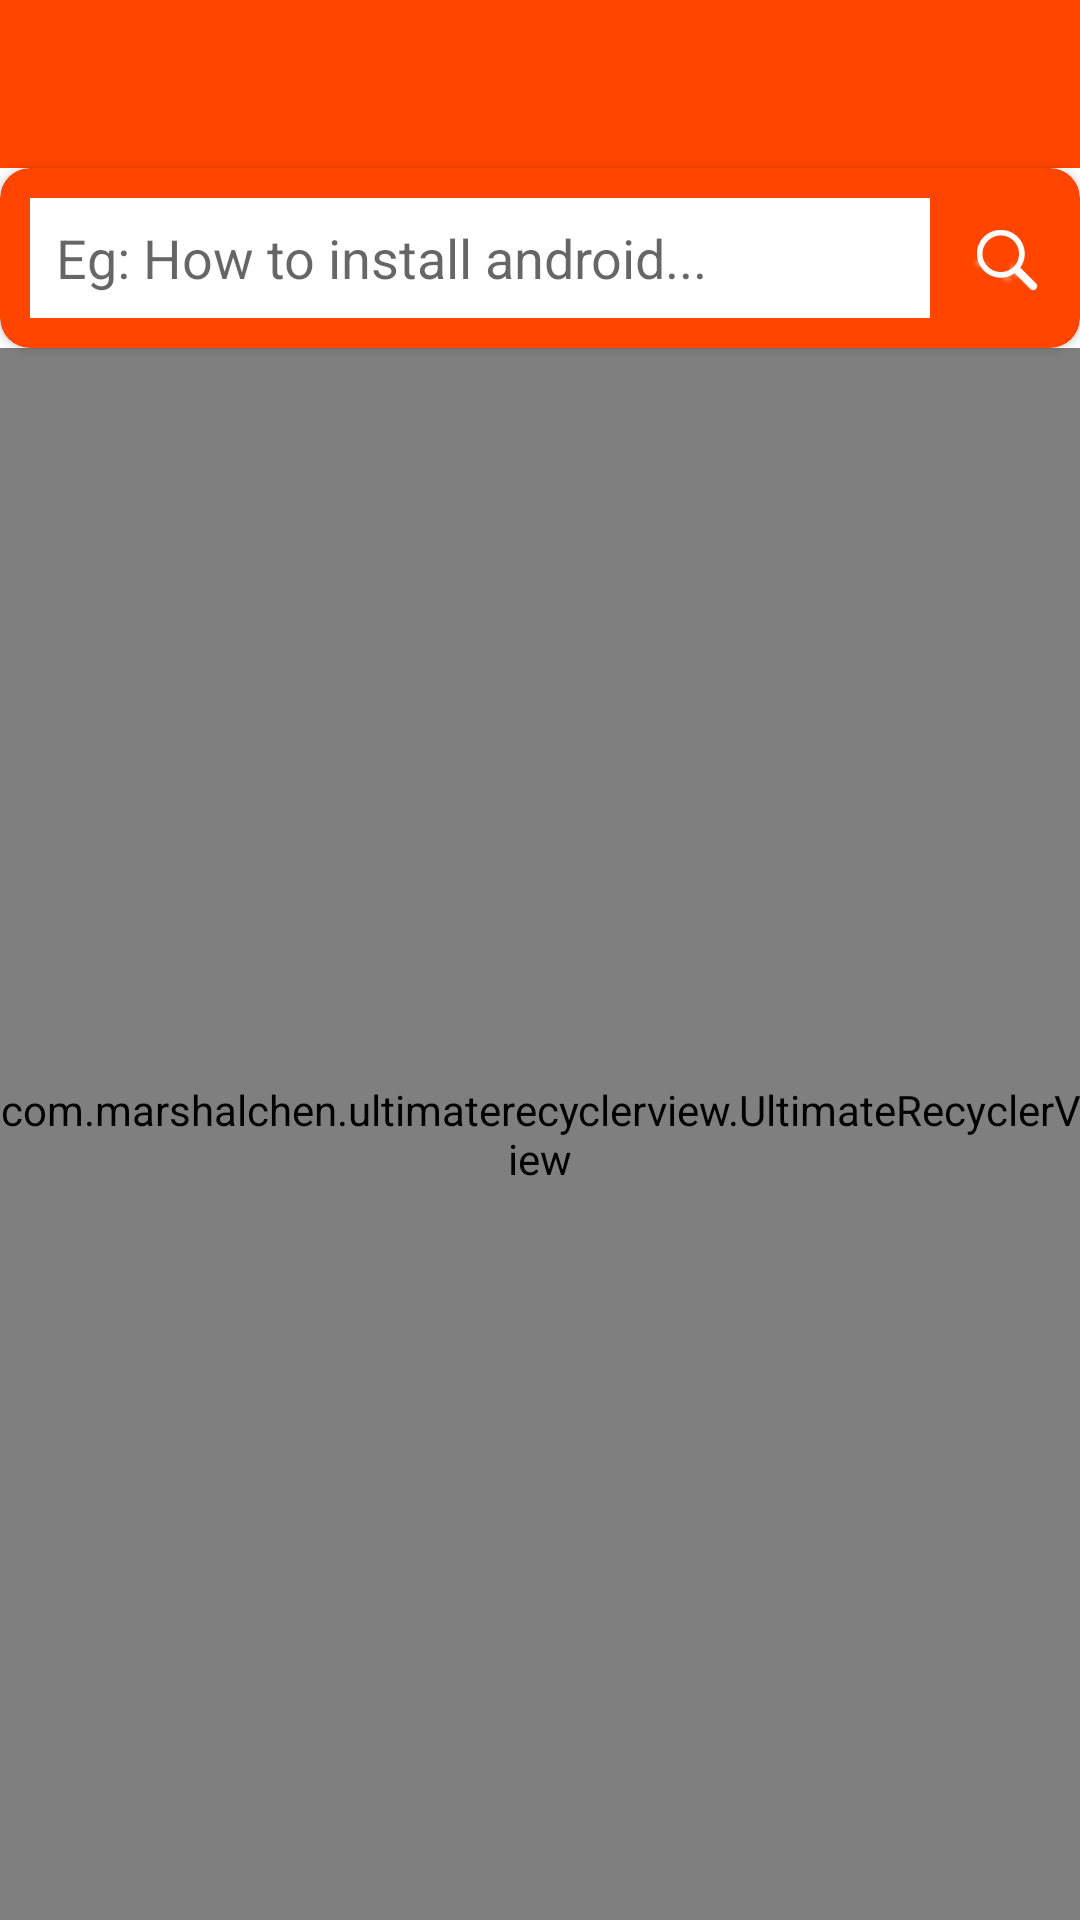

Icon bounding boxes for this 1080px x 1920px phone screenshot, format (x1, y1, x2, y2):
search: (974, 230, 1038, 291)
